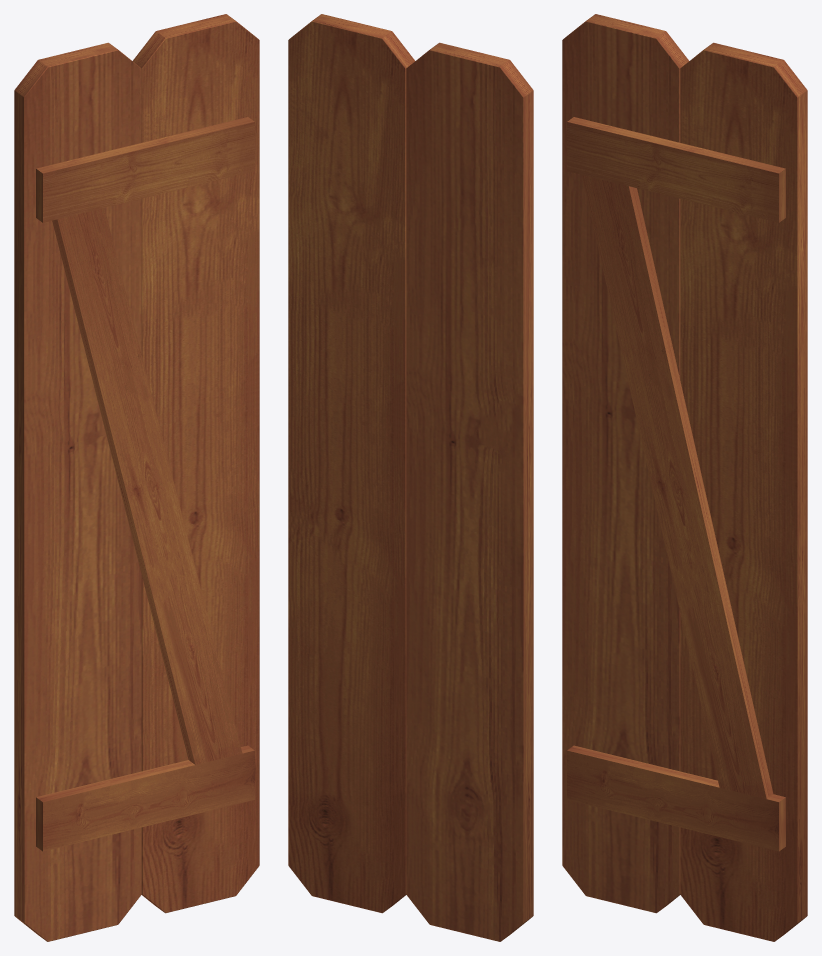
The model's file is ss1_left.obj.
3 views of the same model, side by side, from view 1: azimuth 30°, elevation 25°; view 2: azimuth 150°, elevation 25°; view 3: azimuth 330°, elevation 25° (orthographic).
Visible parts, largest first — view 1: shutter, shutter001, shutter004, shutter003, shutter002; view 2: shutter, shutter001; view 3: shutter001, shutter, shutter004, shutter003, shutter002.
Part boxes in pixels (left/top/right/bottom): shutter: left=14, top=42, right=141, bottom=941; shutter001: left=133, top=14, right=259, bottom=913; shutter004: left=52, top=208, right=242, bottom=764; shutter003: left=36, top=117, right=254, bottom=222; shutter002: left=36, top=745, right=254, bottom=851; shutter: left=406, top=42, right=533, bottom=941; shutter001: left=288, top=14, right=414, bottom=913; shutter001: left=680, top=42, right=807, bottom=941; shutter: left=562, top=14, right=688, bottom=913; shutter004: left=581, top=175, right=773, bottom=798; shutter003: left=567, top=117, right=785, bottom=222; shutter002: left=567, top=745, right=785, bottom=851.
Bounding box in the file's own units: 10 × 35.5 × 1.25.
Materials: 5 (5 with a texture image).
